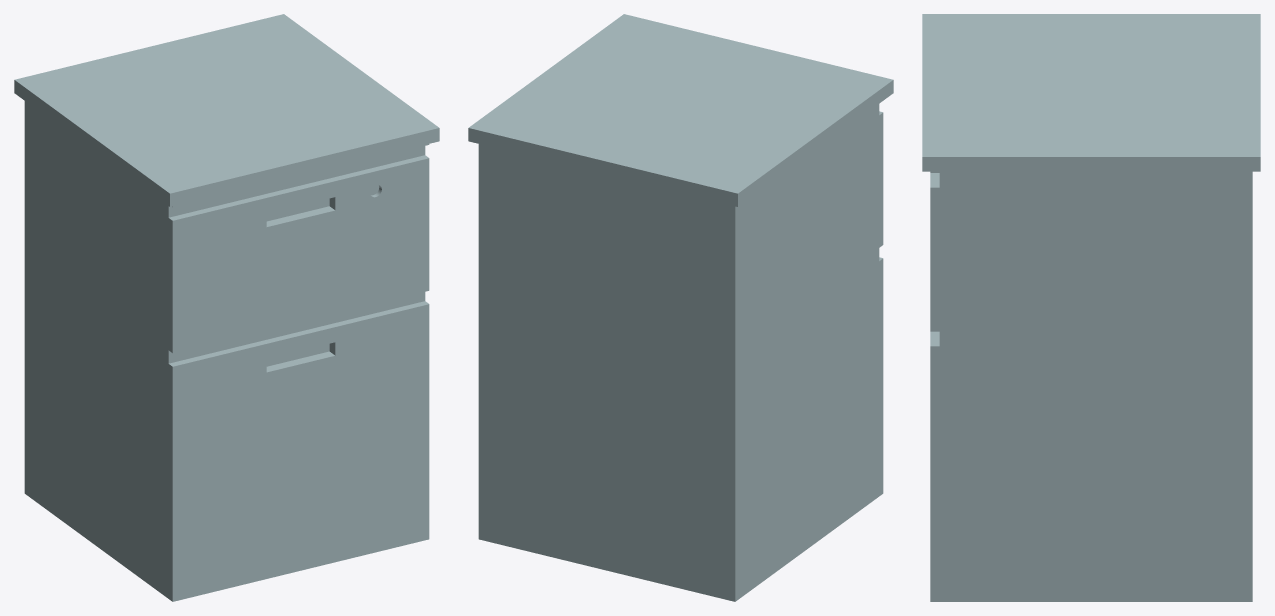
The model's file is test_shelf01.fbx.
3 renders of one model, left to right at view 1: azimuth 30°, elevation 25°; view 2: azimuth 150°, elevation 25°; view 3: azimuth 270°, elevation 25°, orthographic. The views are drawn at different scales.
Parts seen in each view (by area): view 1: pCube10; view 2: pCube10; view 3: pCube10.
Boxes of the visible parts, x1,y1,x2,y2 form: pCube10: [14, 14, 439, 601]; pCube10: [468, 14, 893, 601]; pCube10: [922, 14, 1260, 601].
Bounding box in the file's own units: 210 × 307 × 210.
